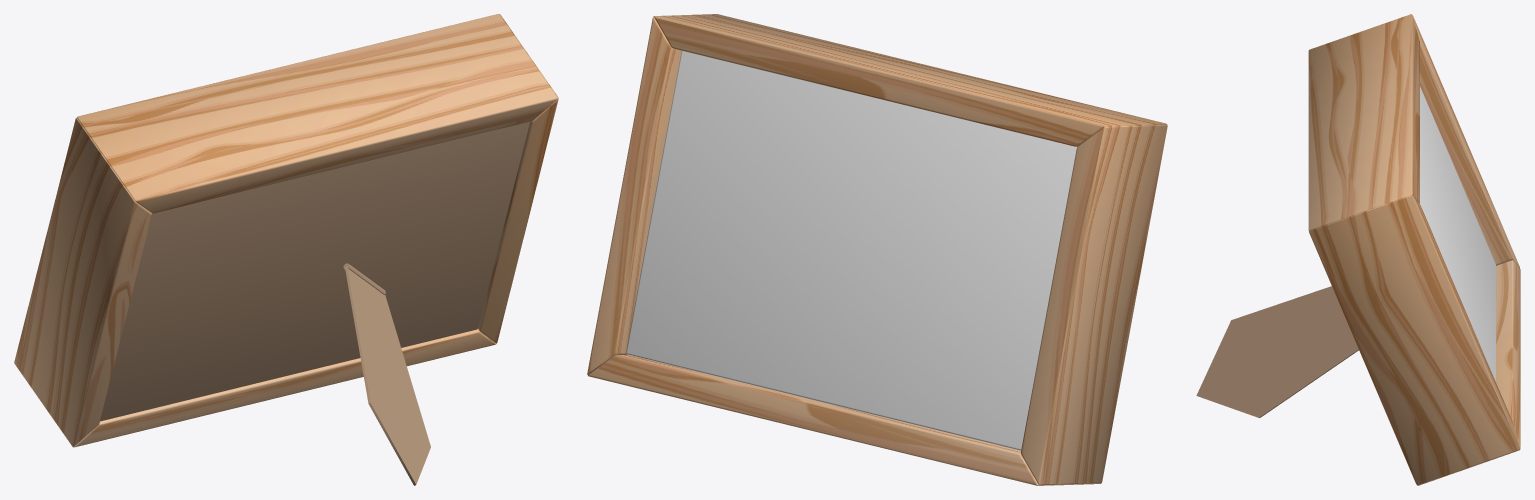
File: Level_P_32.fbx
3 views of the same model, side by side, from view 1: azimuth 30°, elevation 25°; view 2: azimuth 150°, elevation 25°; view 3: azimuth 270°, elevation 25° (orthographic). The views are drawn at different scales.
Parts seen in each view (by area): view 1: Cube.329, Cube.328, Cube.332, PictureFrame, Cube.331, Cube.330; view 2: Cube.327, Cube.332, Cube.328, Cube.331, Cube.330; view 3: Cube.330, Cube.328, PictureFrame, Cube.327, Cube.332, Cube.331.
Part boxes in pixels (x1,y1,x2,y2): Cube.329: (100, 122, 529, 421); Cube.328: (77, 14, 557, 213); Cube.332: (14, 117, 151, 446); PictureFrame: (343, 263, 430, 485); Cube.331: (16, 329, 495, 447); Cube.330: (478, 14, 558, 343); Cube.327: (626, 51, 1077, 450); Cube.332: (1021, 124, 1167, 485); Cube.328: (654, 14, 1166, 146); Cube.331: (588, 354, 1100, 485); Cube.330: (587, 16, 681, 374); Cube.330: (1309, 195, 1519, 485); Cube.328: (1308, 14, 1419, 230); PictureFrame: (1196, 286, 1358, 417); Cube.327: (1419, 86, 1495, 381); Cube.332: (1412, 15, 1519, 267); Cube.331: (1417, 260, 1520, 485).
Bounding box in the file's own units: 26.82 × 20.12 × 20.27.
